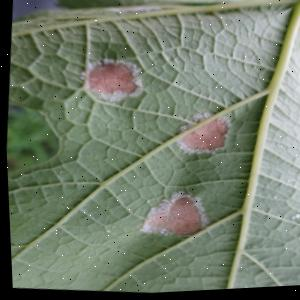Folha: (0, 0, 300, 300)
Fungo: (135, 186, 211, 241), (77, 54, 146, 105), (171, 108, 233, 160)
